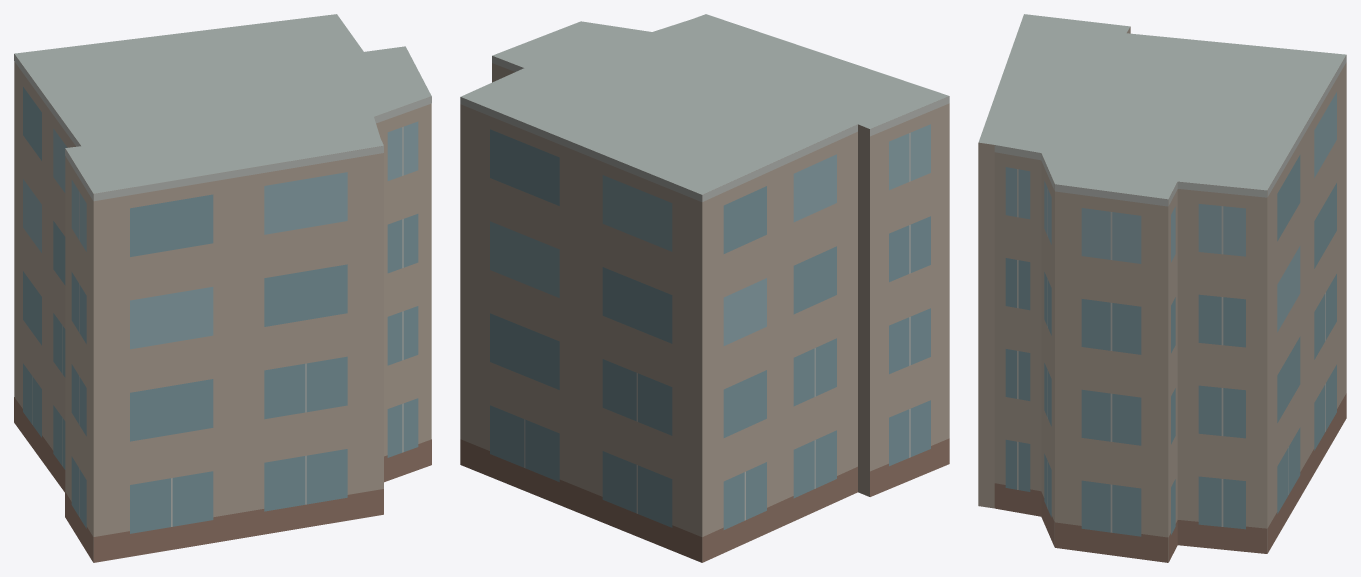
File: survey-upis-32617073.glb
3 views of the same model, side by side, from view 1: azimuth 30°, elevation 25°; view 2: azimuth 150°, elevation 25°; view 3: azimuth 270°, elevation 25° (orthographic).
Parts seen in each view (by area): view 1: survey-upis-32617073.tmp; view 2: survey-upis-32617073.tmp; view 3: survey-upis-32617073.tmp.
Boxes of the visible parts, box(x1,y1,x2,y2) form: survey-upis-32617073.tmp: box(14, 14, 431, 562); survey-upis-32617073.tmp: box(460, 14, 949, 562); survey-upis-32617073.tmp: box(978, 14, 1346, 562).
Size of the model in its own units: 13.35 by 12.2 by 11.21.
